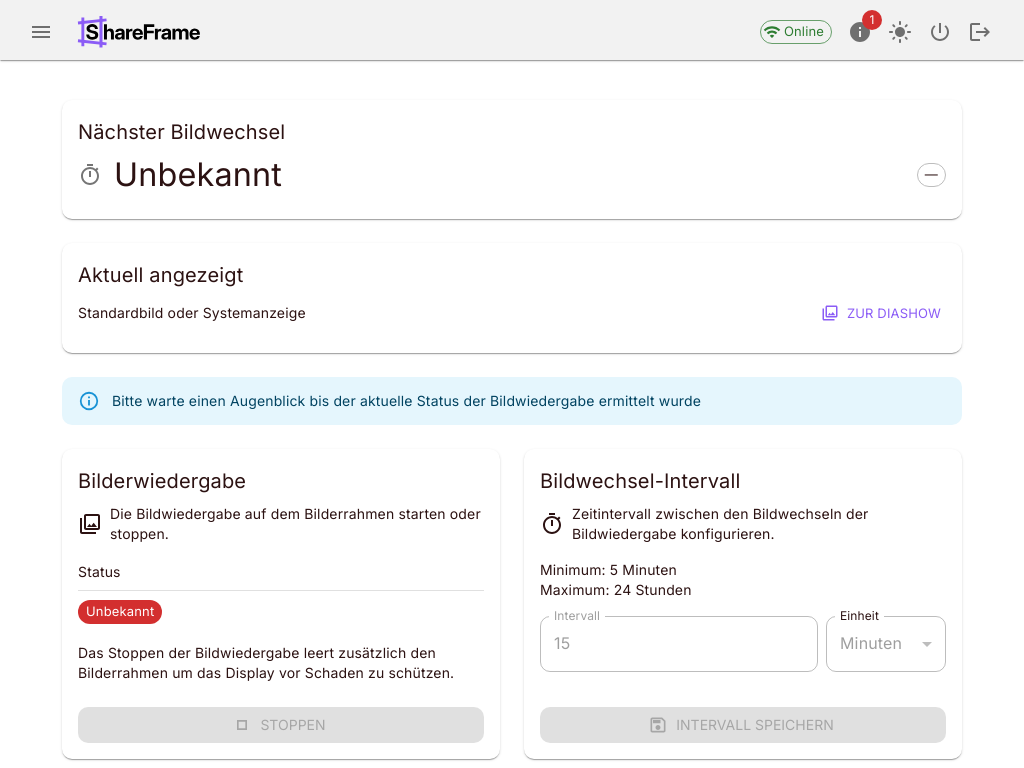
Test case: notifications › warns when the board does not answer
Click the button named "Benachrichtigungen". click: (860, 32)
box: [840,12,880,52]
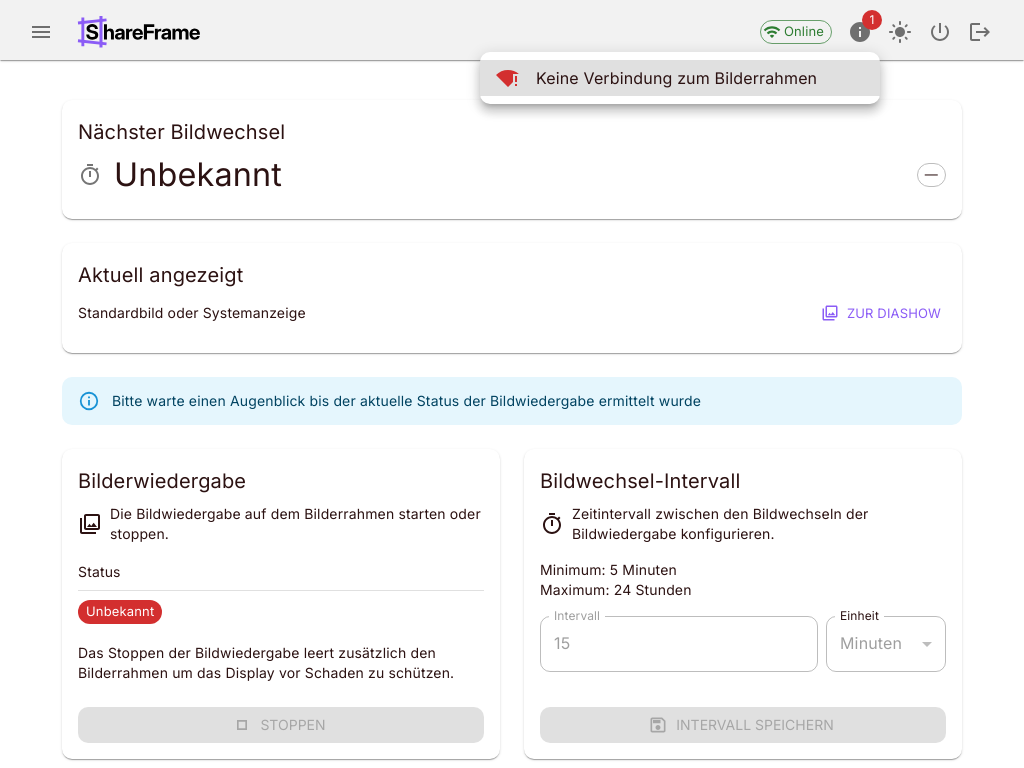
Expected: the text "Keine Verbindung zum Bilderrahmen" is shown, [536,66,817,90]
